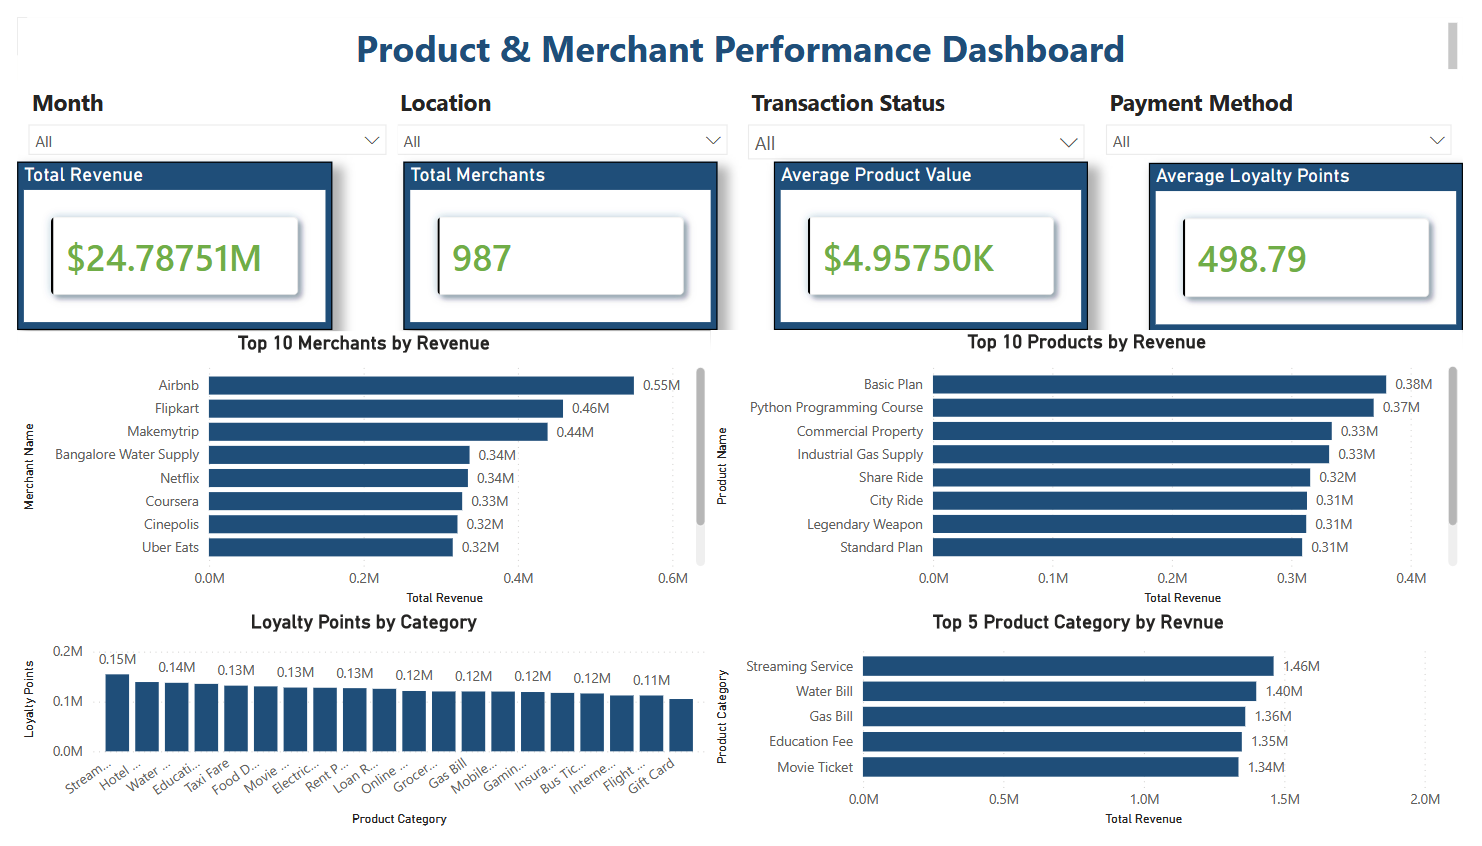

The dashboard page shown, as its layout file describes it:
{"tool":"powerbi","page":{"name":"Product & Merchant Performance","canvas":[1280,720],"ordinal":2},"visuals":[{"type":"textbox","box":[9.3,0,1270.7,52.1],"z":0},{"type":"slicer","fields":{"Values":["cleaned_transactions.payment_method"]},"box":[954.4,56.3,325.6,71.4],"z":1000},{"type":"slicer","fields":{"Values":["cleaned_transactions.location"]},"box":[325.6,56.3,313.2,71.4],"z":2000},{"type":"slicer","fields":{"Values":["cleaned_transactions.transaction_status"]},"box":[637.4,56.3,317.3,71.4],"z":3000},{"type":"slicer","fields":{"Values":["cleaned_transactions.month"]},"box":[0,56.3,336.6,71.4],"z":4000},{"type":"cardVisual","title":"Total Merchants","fields":{"Data":["cleaned_transactions.Total Merchants"]},"box":[341.7,127.6,278.6,149.6],"z":5000},{"type":"cardVisual","title":"Average Loyalty Points","fields":{"Data":["cleaned_transactions.Average Loyalty Points"]},"box":[1001.7,129,278.6,149.6],"z":6000},{"type":"cardVisual","title":"Total Revenue","fields":{"Data":["cleaned_transactions.Total Revenue"]},"box":[0,127.6,278.6,149.6],"z":7000},{"type":"cardVisual","title":"Average Product Value","fields":{"Data":["cleaned_transactions.Average Product Value"]},"box":[669.6,127.6,278.6,149.6],"z":8000},{"type":"clusteredBarChart","title":"Top 5 Product Category by Revnue","fields":{"Category":["cleaned_transactions.product_category"],"Y":["cleaned_transactions.Total Revenue"]},"box":[613.6,524.5,651.1,196.2],"z":9000},{"type":"barChart","title":"Top 10 Products by Revenue","fields":{"Category":["cleaned_transactions.product_name"],"Y":["cleaned_transactions.Total Revenue"]},"box":[613.6,276.9,666.4,247.7],"z":10000},{"type":"barChart","title":"Top 10 Merchants by Revenue","fields":{"Category":["cleaned_transactions.merchant_name"],"Y":["cleaned_transactions.Total Revenue"]},"box":[0,278.3,613.6,246.3],"z":11000},{"type":"columnChart","title":"Loyalty Points by Category","fields":{"Category":["cleaned_transactions.product_category"],"Y":["Sum(cleaned_transactions.loyalty_points)"]},"box":[0,524.5,613.6,196.2],"z":12000}]}

Visuals, with their boxes in screenshot pixels (x1, y1, x2, y2), scaled from the page's 1280x720 canvas onto the 1482x846 screenshot:
textbox: locate(11, 0, 1481, 61)
slicer - cleaned_transactions.payment_method: locate(1105, 66, 1481, 150)
slicer - cleaned_transactions.location: locate(377, 66, 740, 150)
slicer - cleaned_transactions.transaction_status: locate(738, 66, 1105, 150)
slicer - cleaned_transactions.month: locate(0, 66, 390, 150)
"Total Merchants" cardVisual: locate(396, 150, 718, 326)
"Average Loyalty Points" cardVisual: locate(1160, 152, 1481, 327)
"Total Revenue" cardVisual: locate(0, 150, 323, 326)
"Average Product Value" cardVisual: locate(775, 150, 1098, 326)
"Top 5 Product Category by Revnue" clusteredBarChart: locate(710, 616, 1464, 845)
"Top 10 Products by Revenue" barChart: locate(710, 325, 1481, 616)
"Top 10 Merchants by Revenue" barChart: locate(0, 327, 710, 616)
"Loyalty Points by Category" columnChart: locate(0, 616, 710, 845)
